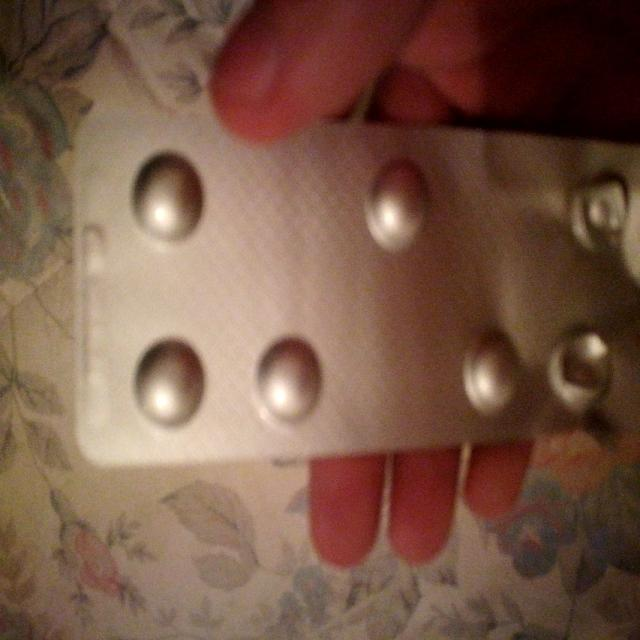Empty: (544, 319, 622, 414), (565, 161, 631, 263)
Pill: (122, 327, 209, 433), (126, 140, 209, 250), (247, 328, 331, 426), (360, 151, 437, 253), (457, 317, 525, 420)
